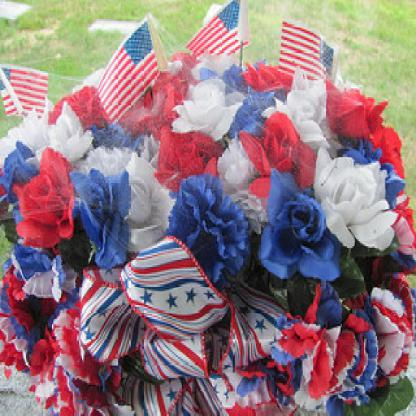ROSE-MAWAR: (238, 128, 405, 285)
